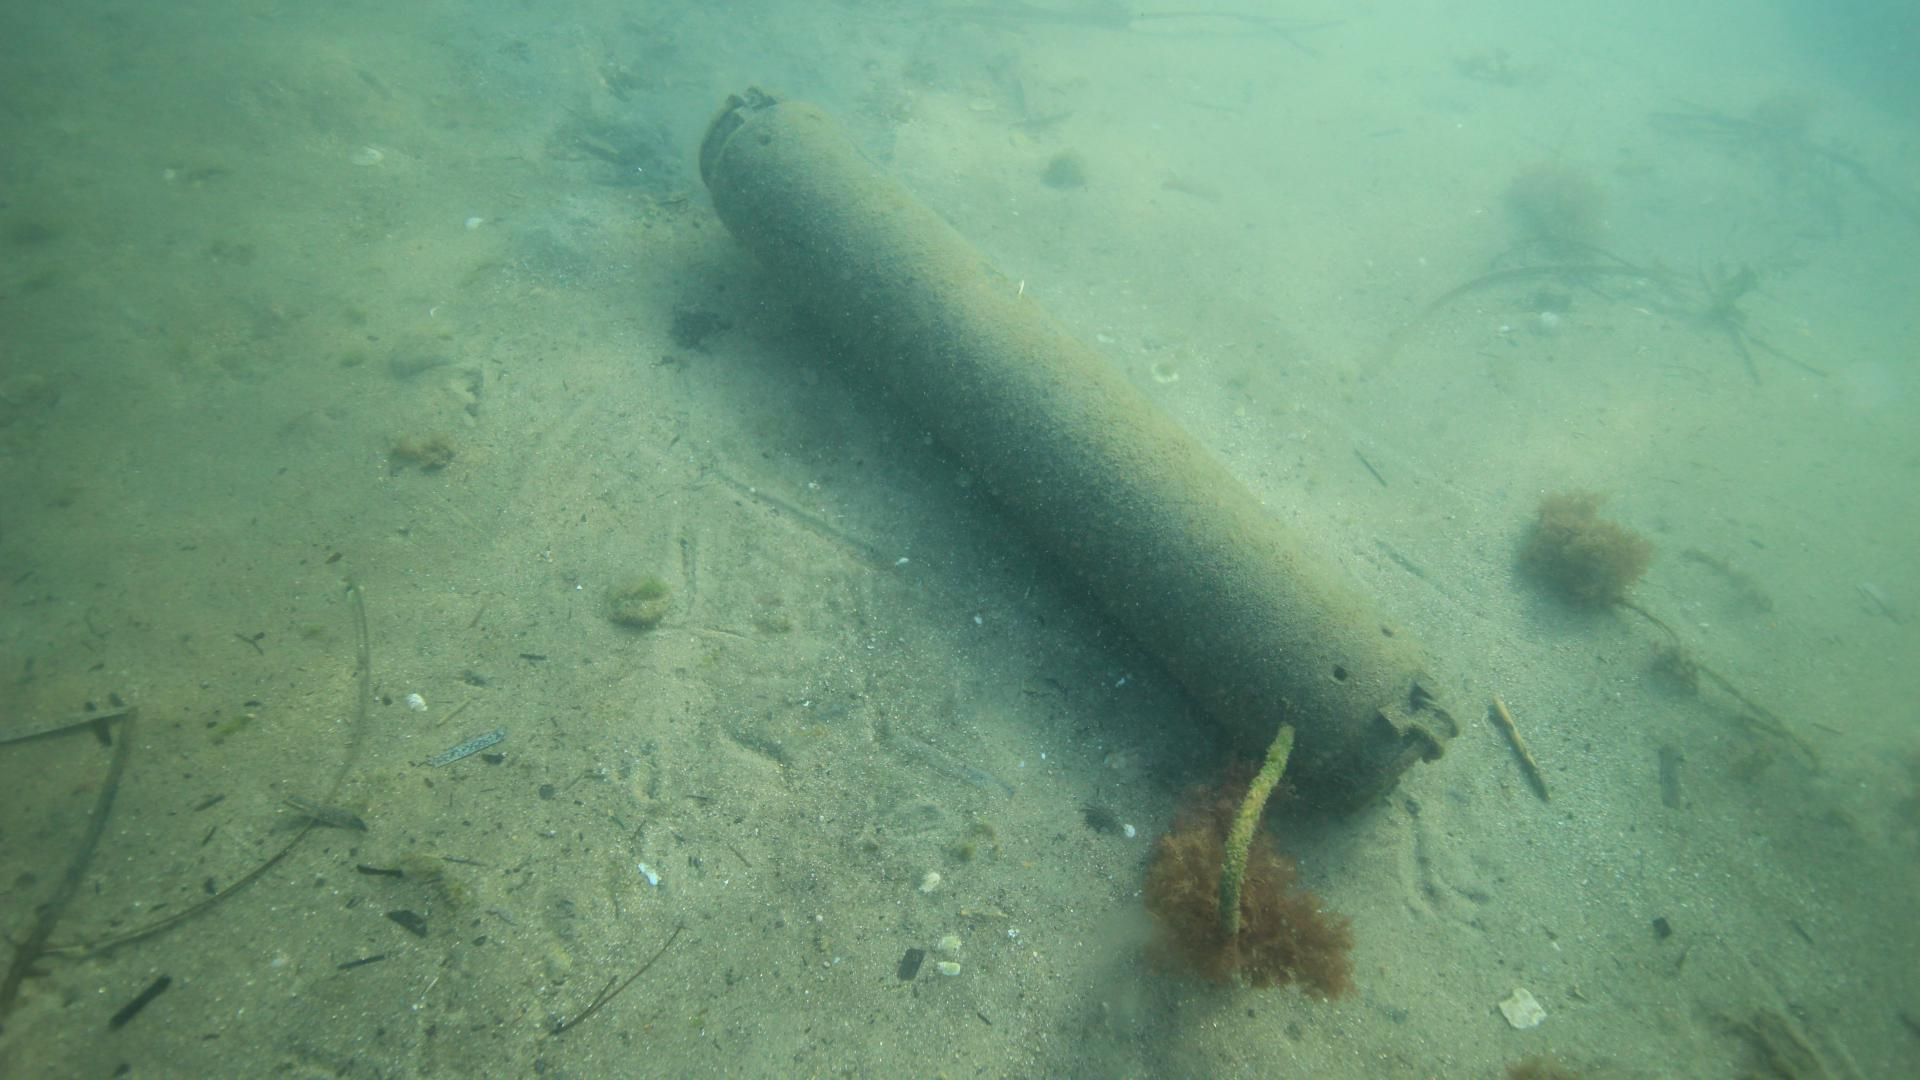eel fish trap: (696, 80, 1470, 794)
rope: (1208, 723, 1296, 997)
